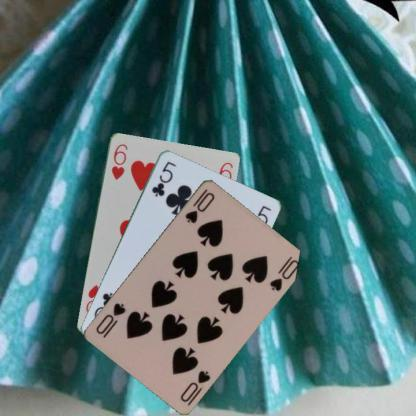10s: (177, 367, 212, 407), (182, 186, 216, 224)
5c: (148, 158, 178, 198)
6h: (108, 141, 128, 181)
